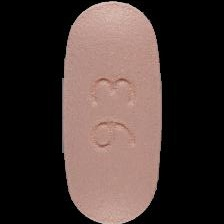50090-1550: (0, 0, 224, 224)
